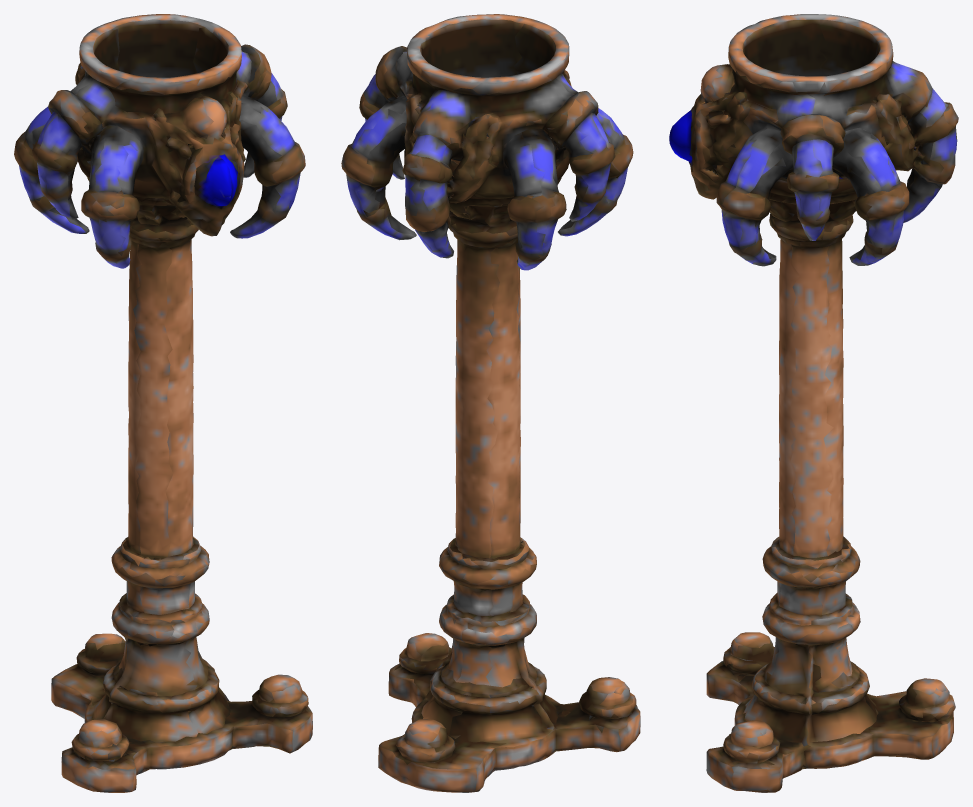
The model's file is TBLU_stand_mesh.obj.
The picture shows the model from 3 angles, left to right: view 1: azimuth 30°, elevation 25°; view 2: azimuth 150°, elevation 25°; view 3: azimuth 270°, elevation 25°; orthographic projection.
Bounding box in the file's own units: 0.3766 × 1.01 × 0.3813.
Materials: 1 (1 with a texture image).
